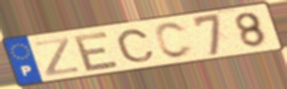7: (190, 11, 225, 58)
8: (234, 11, 270, 49)
C: (152, 21, 196, 60), (115, 28, 157, 64)
E: (72, 29, 122, 73)
Z: (33, 36, 81, 78)
